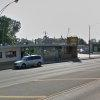Car: (7, 46, 46, 71)
